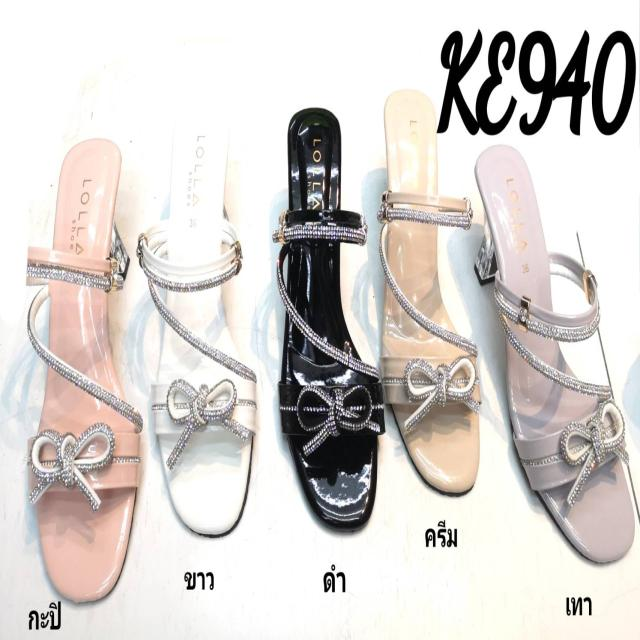black: (274, 107, 378, 523)
cream: (378, 90, 482, 491)
grey: (473, 144, 636, 562)
kapi: (34, 136, 142, 597)
white: (147, 120, 262, 536)
